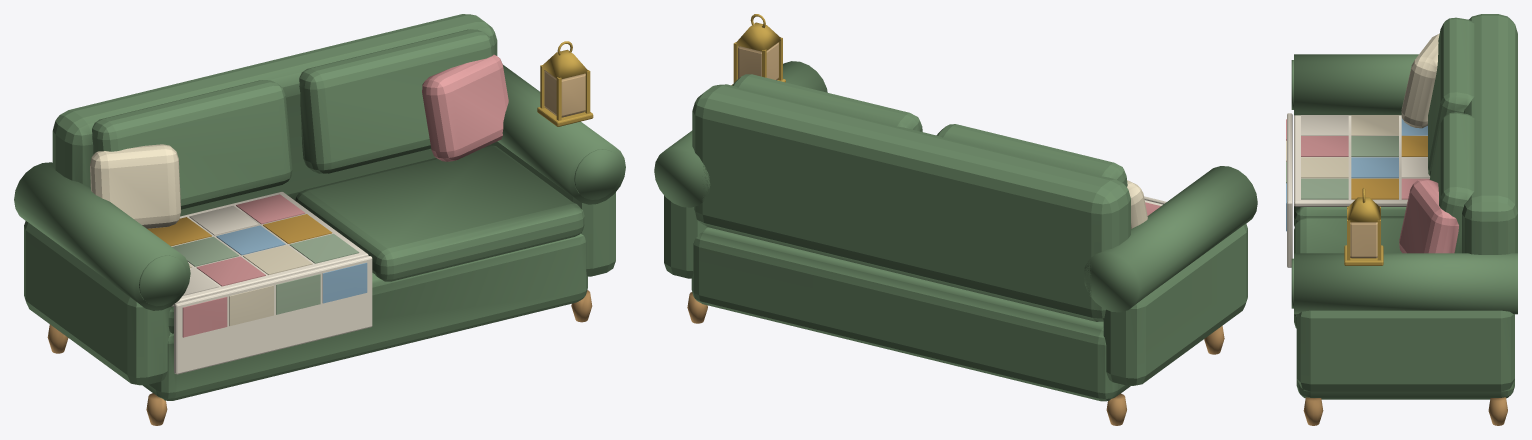
Rendered from hearthSettee.glb.
3 views of the same model, side by side, from view 1: azimuth 30°, elevation 25°; view 2: azimuth 150°, elevation 25°; view 3: azimuth 270°, elevation 25° (orthographic). The views are drawn at different scales.
Parts seen in each view (by area): view 1: body, seats; view 2: body; view 3: body, seats.
Boxes of the visible parts, box(x1,y1,x2,y2) form: body: box(14, 14, 625, 425); seats: box(147, 145, 584, 374); body: box(654, 14, 1257, 425); body: box(1291, 14, 1517, 425); seats: box(1286, 113, 1429, 328).
Size of the model in its own units: 1.9 by 0.945 by 0.828.
